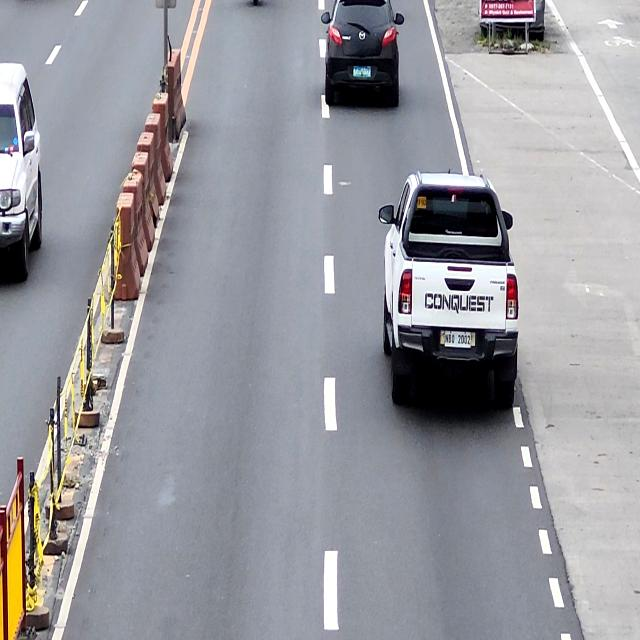Car: (378, 169, 518, 412), (320, 0, 406, 109)
License-Plate: (444, 331, 472, 349), (353, 65, 371, 78)
